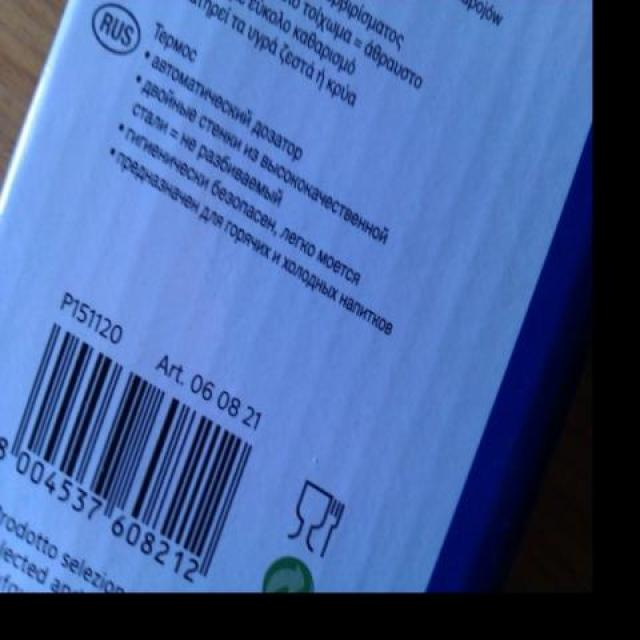Barcode: (6, 298, 261, 578)
